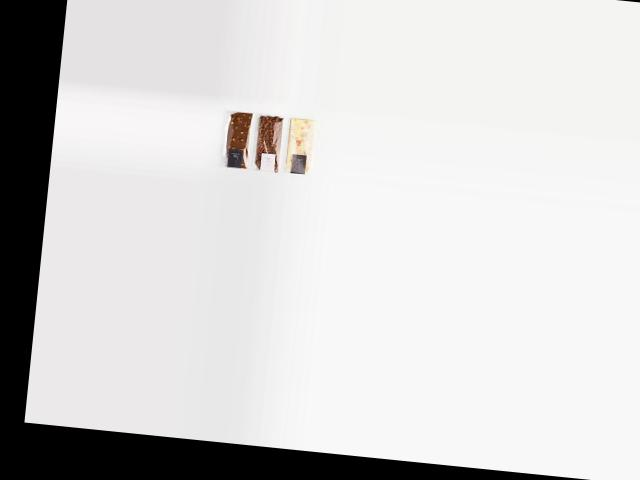chocolate: (215, 104, 255, 168)
